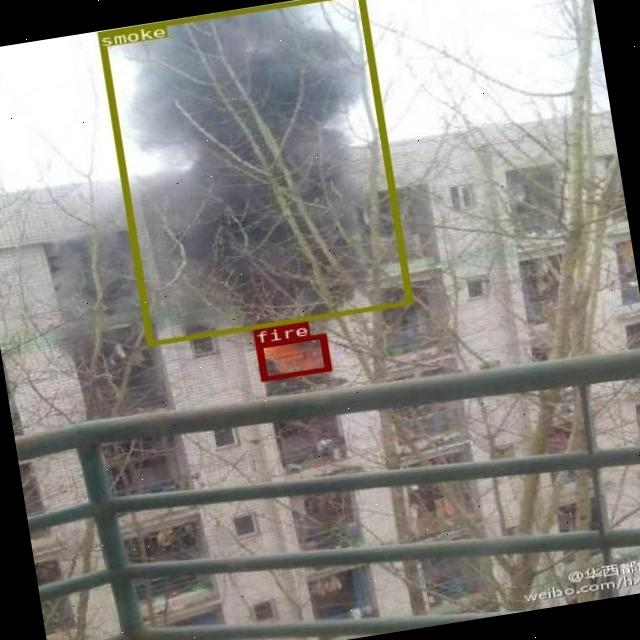fire: (254, 334, 329, 381)
smoke: (96, 0, 410, 345)
